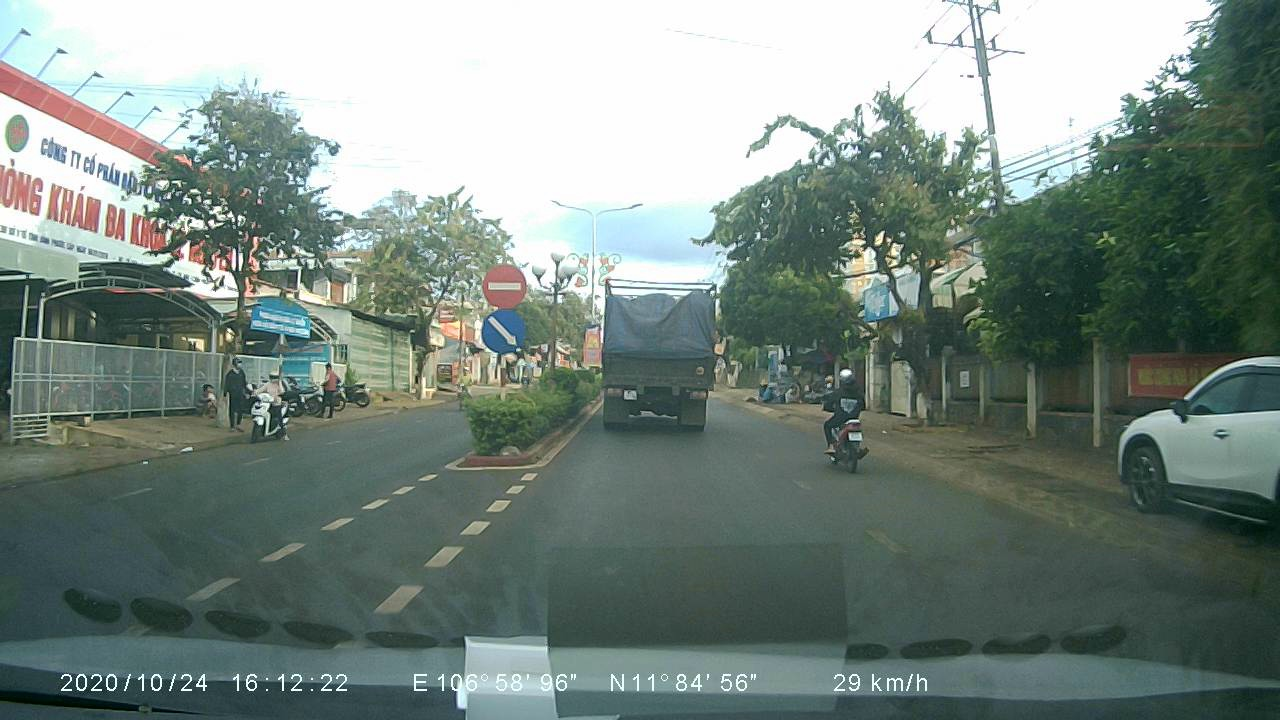Cam di nguoc chieu: (481, 259, 530, 309)
Huong di phai re phai: (479, 309, 528, 356)
